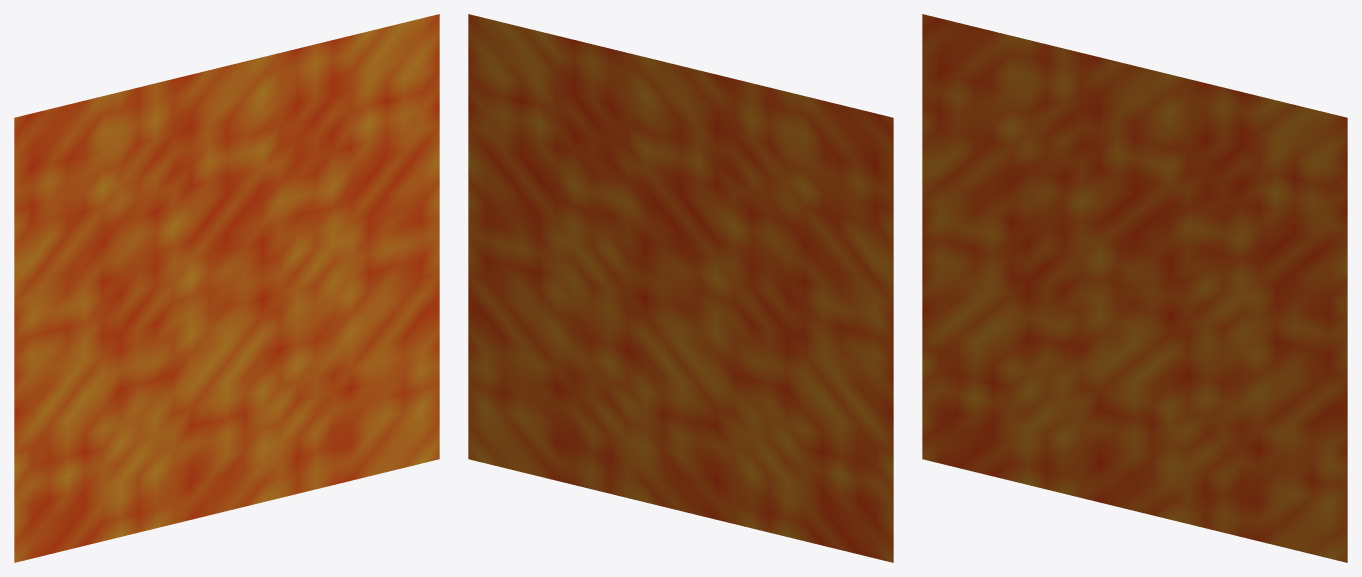
The model's file is flood.obj.
3 renders of one model, left to right at view 1: azimuth 30°, elevation 25°; view 2: azimuth 150°, elevation 25°; view 3: azimuth 330°, elevation 25°, orthographic.
Visible parts, largest first — view 1: flood; view 2: flood; view 3: flood.
Boxes of the visible parts, x1=… form: flood: x1=14, y1=14, x2=439, y2=562; flood: x1=468, y1=14, x2=893, y2=562; flood: x1=922, y1=14, x2=1347, y2=562.
Size of the model in its own units: 95.8 by 95.8 by 0.
